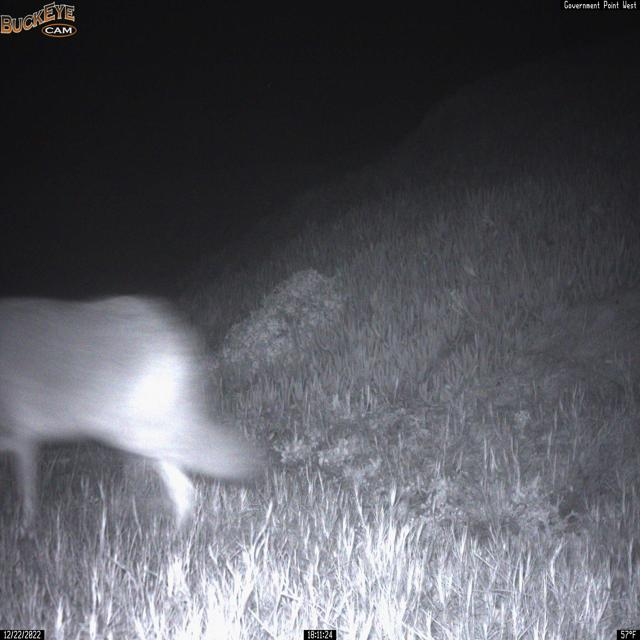coyote: (0, 285, 269, 547)
